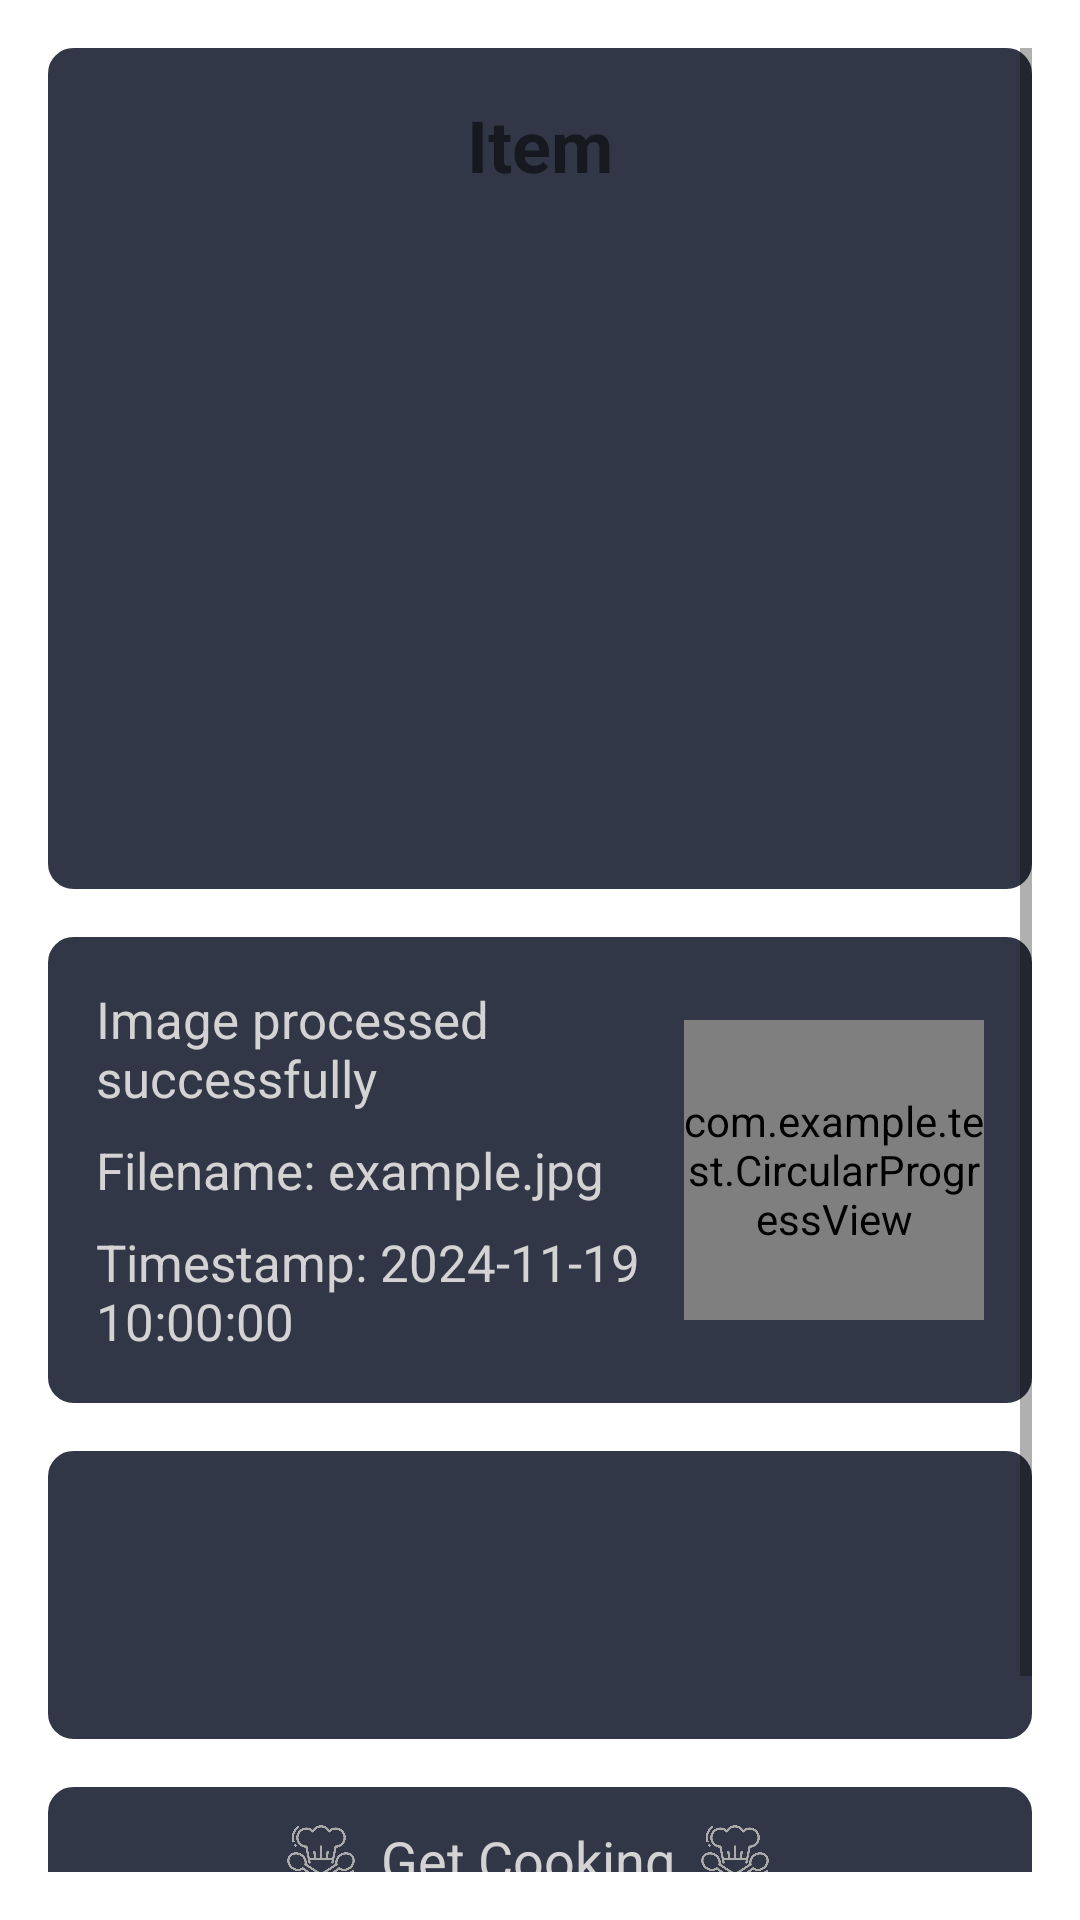

Icon click points for this 1080×1920 phone screenshot, format (x=x, y=y):
Cook Icon: (x=321, y=1859), (x=735, y=1859)
